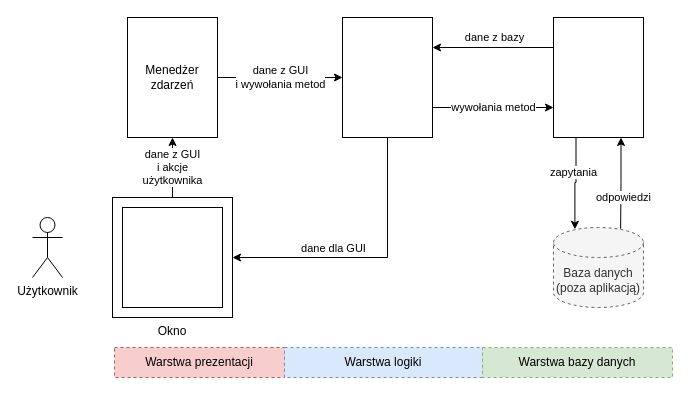
Image size: 690x395. Some labels were removed from this diagram. The centre of each missing label's shape, as x and y in pixels:
API Bazy danych: the point at 598,77
Logika aplikacji: the point at 387,77
Widok: the point at 172,257
